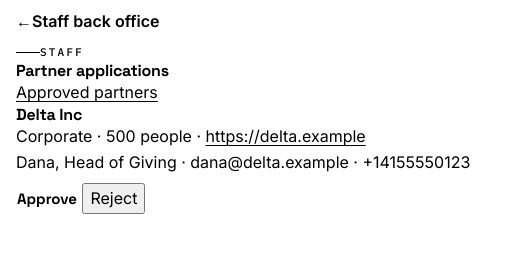
it: lists a pending application and approves it
The width and height of the screenshot is (510, 262).
Expected: the heading "Delta Inc" is shown, [16, 104, 82, 125]
Click the button "Approve" at x=47, y=199, box [16, 175, 78, 223]
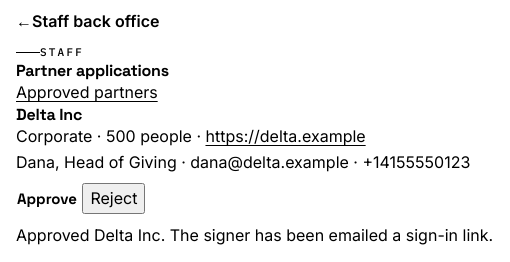
Expected: the message shows "Approved Delta Inc", [16, 225, 493, 245]
